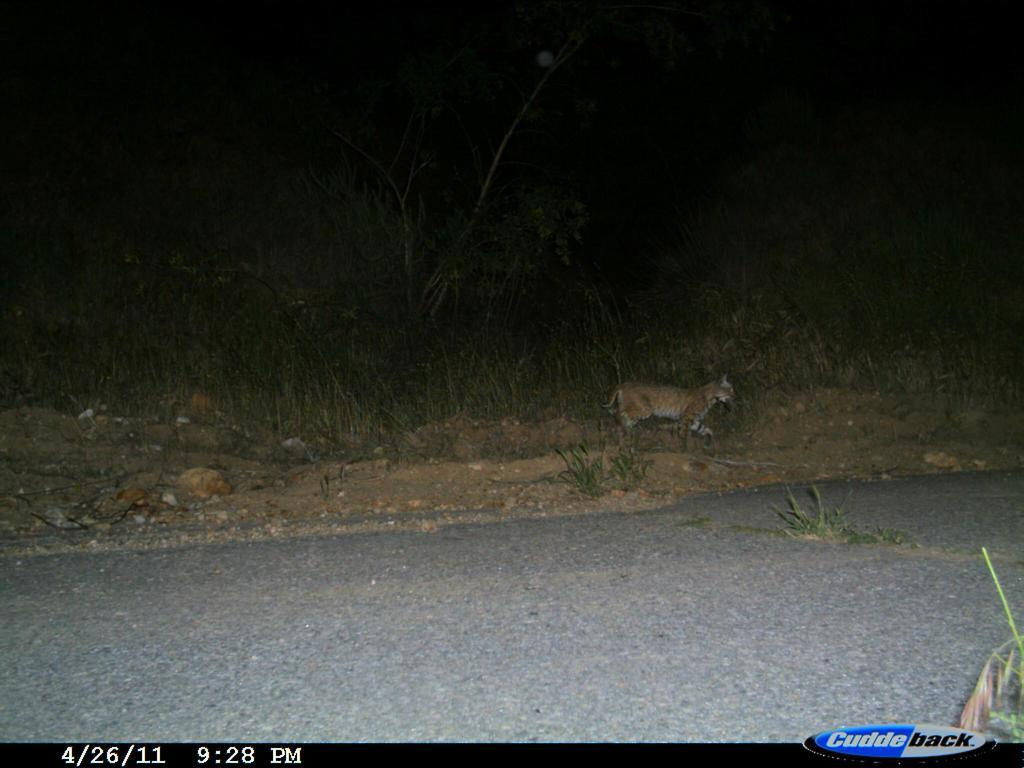bobcat: (603, 364, 752, 456)
